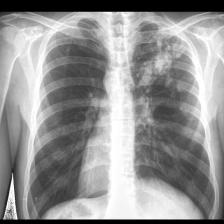tuberculosis: (24, 10, 219, 220)
